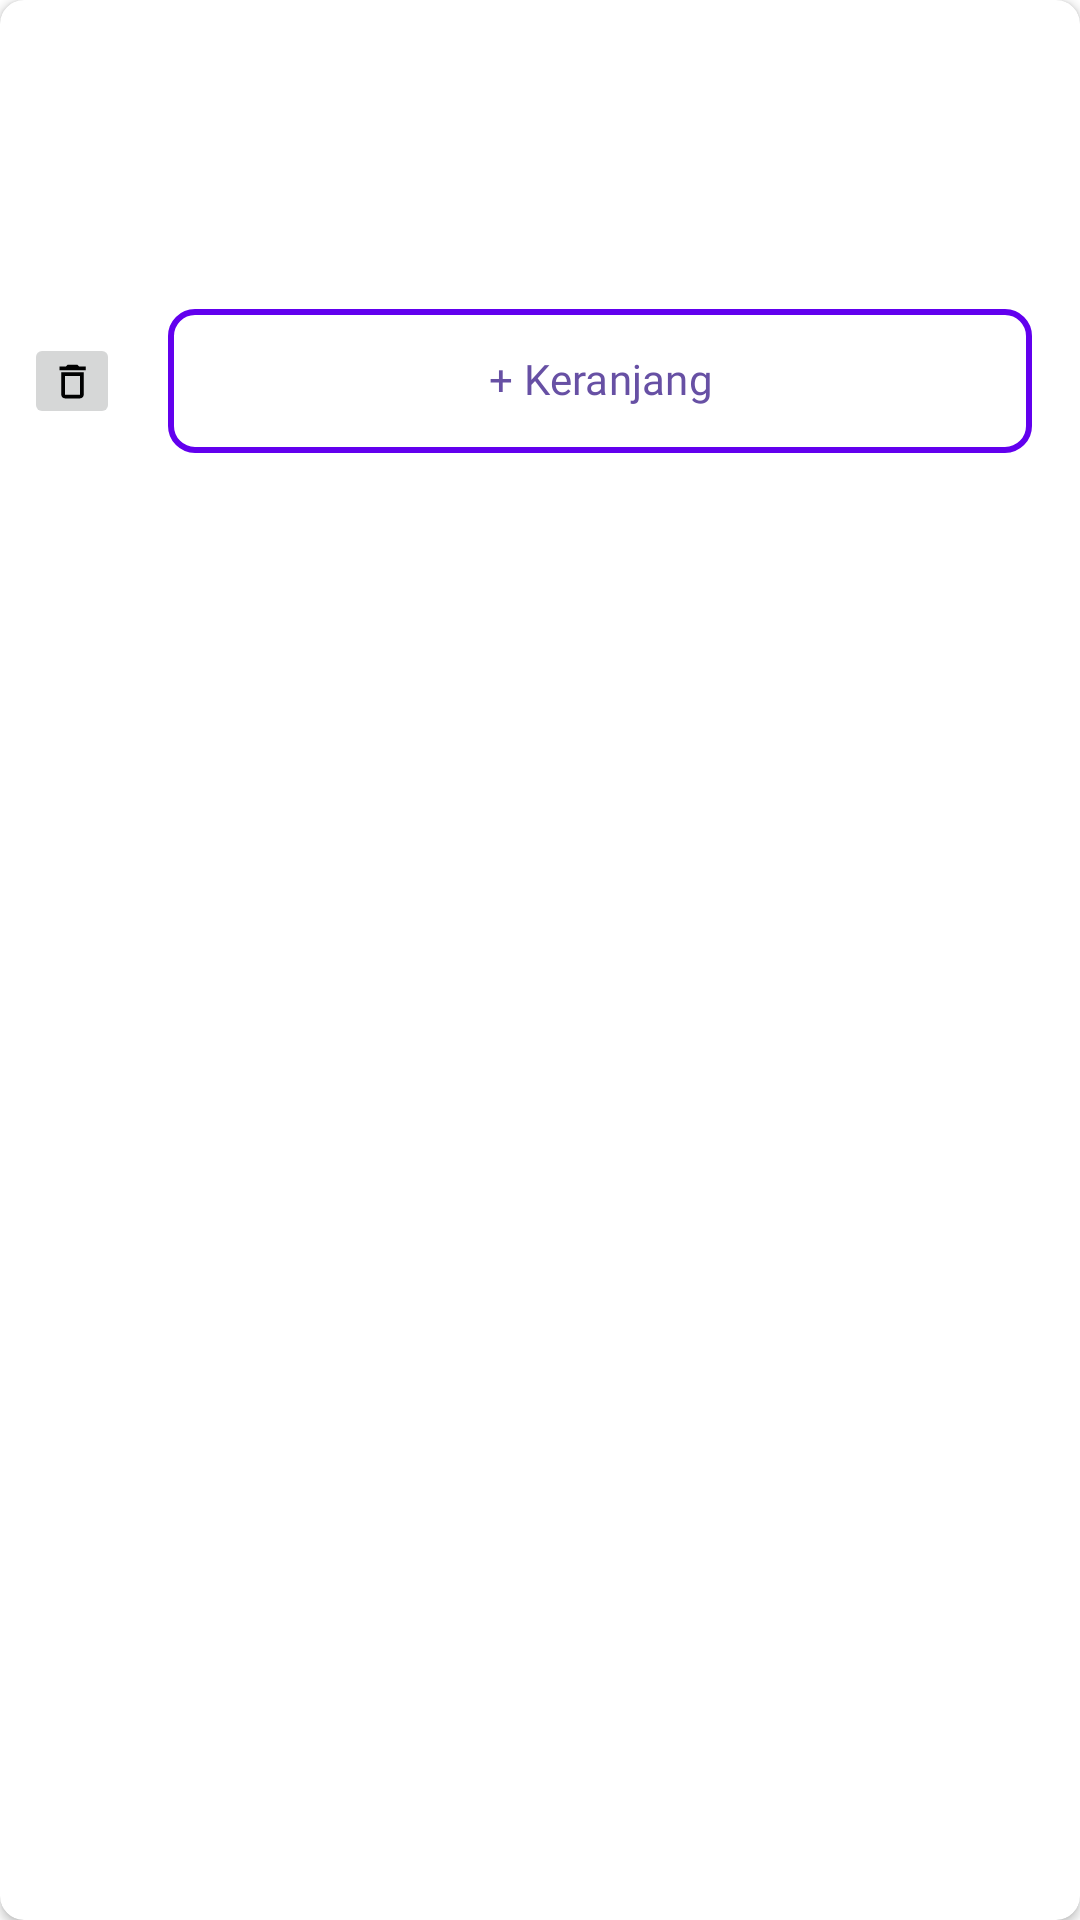

Screen size 1080*1920. Icon name, then its box in pixels as (x1, y1, x2, y2):
delete: (36, 351, 108, 411)
